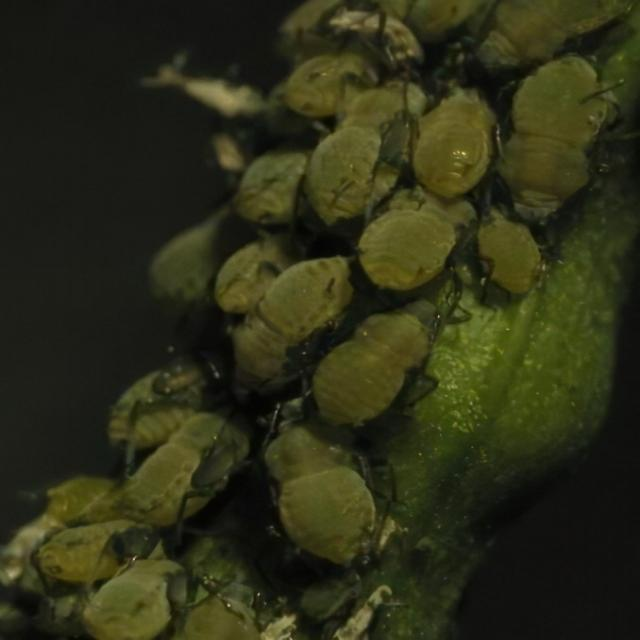aphid: (256, 416, 418, 568), (310, 70, 444, 232), (489, 54, 603, 226), (351, 162, 478, 286), (319, 297, 434, 427)
